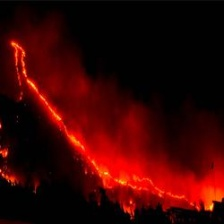fire: (12, 49, 224, 213)
